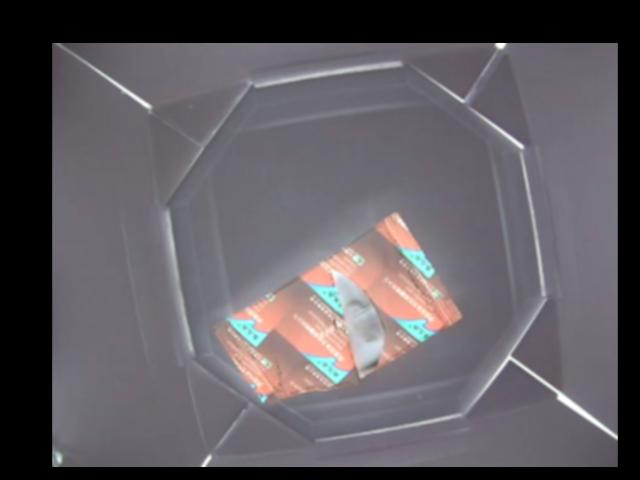Medicine: (221, 210, 464, 403)
